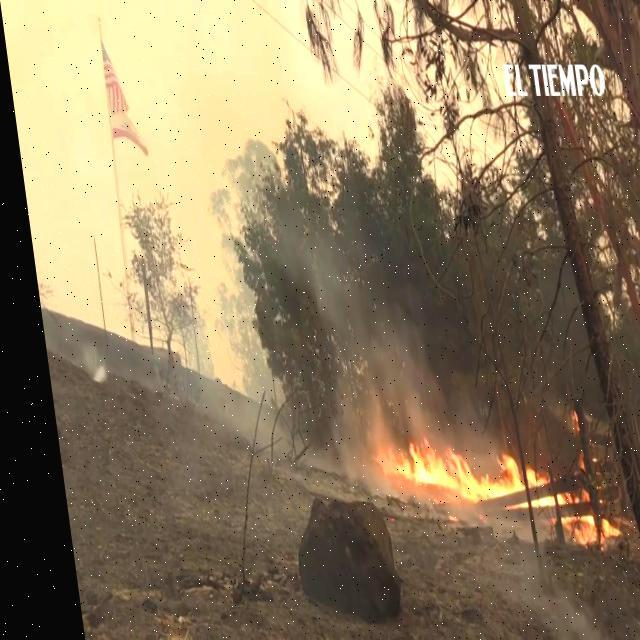Fire: (366, 439, 554, 504), (550, 516, 602, 542), (557, 410, 569, 432)
